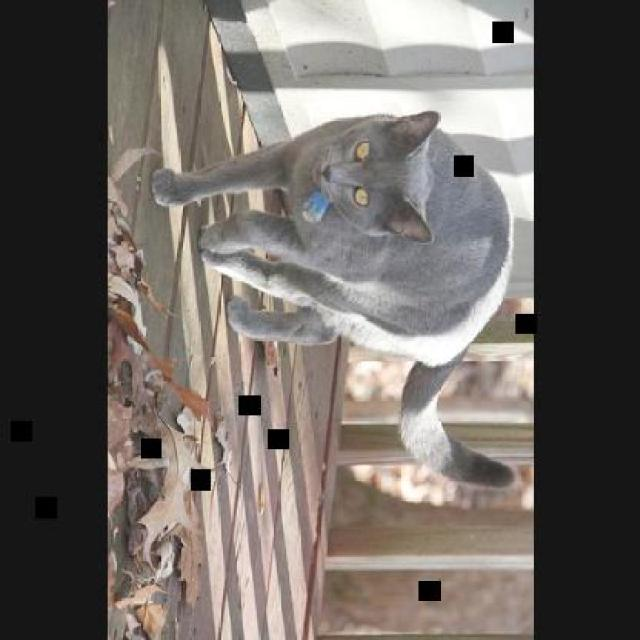unauthorized: (150, 108, 516, 489)
